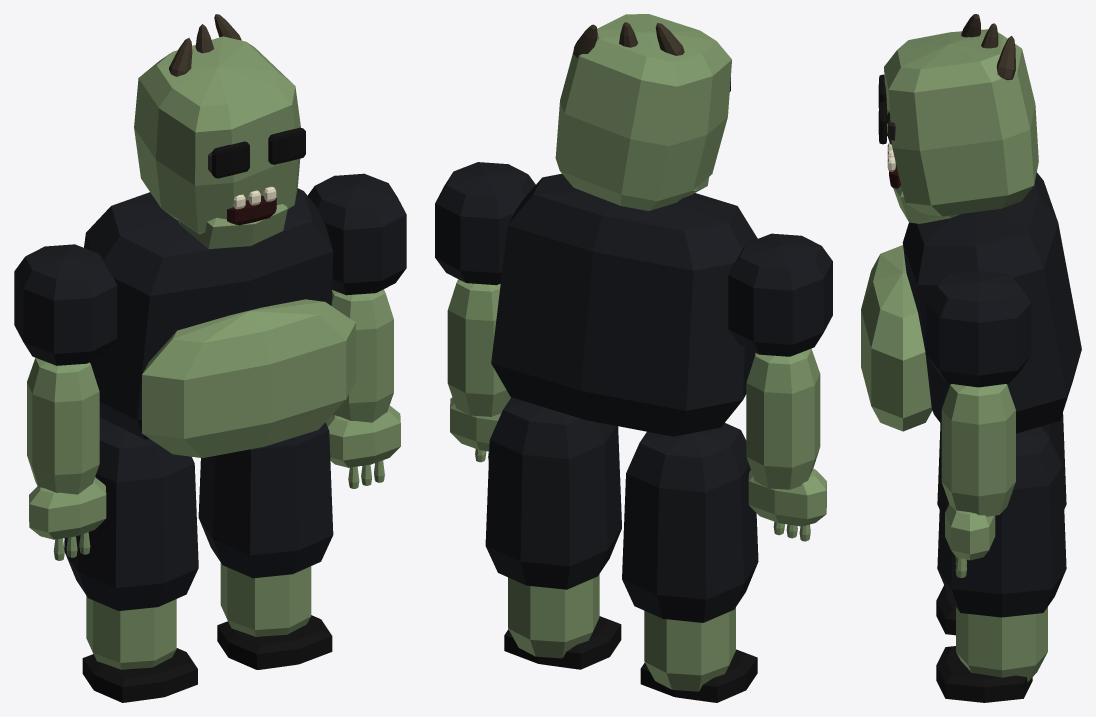
File: mon-brute-2.glb
3 views of the same model, side by side, from view 1: azimuth 30°, elevation 25°; view 2: azimuth 150°, elevation 25°; view 3: azimuth 270°, elevation 25° (orthographic). The views are drawn at different scales.
Visible parts, largest first — view 1: torso, head, leg-right, leg-left, arm-right, arm-left; view 2: torso, leg-right, leg-left, head, arm-right, arm-left; view 3: torso, head, leg-left, arm-left, leg-right.
Boxes of the visible parts, x1=… form: torso: x1=84, y1=188, x2=355, y2=458; head: x1=134, y1=14, x2=305, y2=248; leg-right: x1=64, y1=417, x2=198, y2=702; leg-left: x1=198, y1=422, x2=333, y2=669; arm-right: x1=14, y1=244, x2=117, y2=560; arm-left: x1=307, y1=173, x2=406, y2=488; torso: x1=491, y1=173, x2=757, y2=436; leg-right: x1=622, y1=423, x2=758, y2=702; leg-left: x1=485, y1=397, x2=621, y2=669; head: x1=555, y1=14, x2=731, y2=210; arm-right: x1=728, y1=233, x2=832, y2=541; arm-left: x1=435, y1=162, x2=535, y2=462; torso: x1=861, y1=172, x2=1081, y2=433; head: x1=878, y1=14, x2=1038, y2=223; leg-left: x1=936, y1=426, x2=1066, y2=702; arm-left: x1=926, y1=270, x2=1031, y2=577; leg-right: x1=936, y1=413, x2=1066, y2=635.
Size of the model in its own units: 1.47 by 2.4 by 0.7615.
